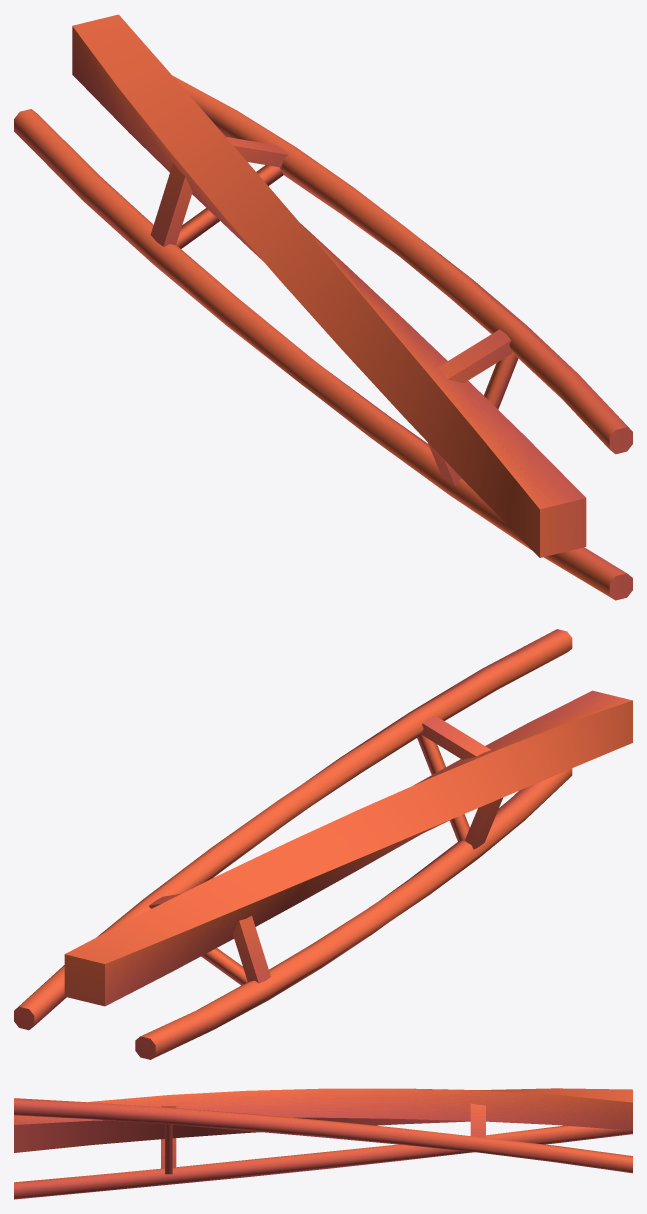
File: coaster-hanging-straight-skew-right-side.glb
3 views of the same model, one above another, from view 1: azimuth 30°, elevation 25°; view 2: azimuth 150°, elevation 25°; view 3: azimuth 270°, elevation 25° (orthographic). The views are drawn at different scales.
Parts seen in each view (by area): view 1: coaster-hanging-straight-skew-right-side; view 2: coaster-hanging-straight-skew-right-side; view 3: coaster-hanging-straight-skew-right-side.
Boxes of the visible parts, box(x1,y1,x2,y2) form: coaster-hanging-straight-skew-right-side: box(14, 14, 632, 600); coaster-hanging-straight-skew-right-side: box(14, 629, 632, 1059); coaster-hanging-straight-skew-right-side: box(14, 1088, 632, 1199).
Bounding box in the file's own units: 2.29 × 2.29 × 12.
1 material, 1 textured.
